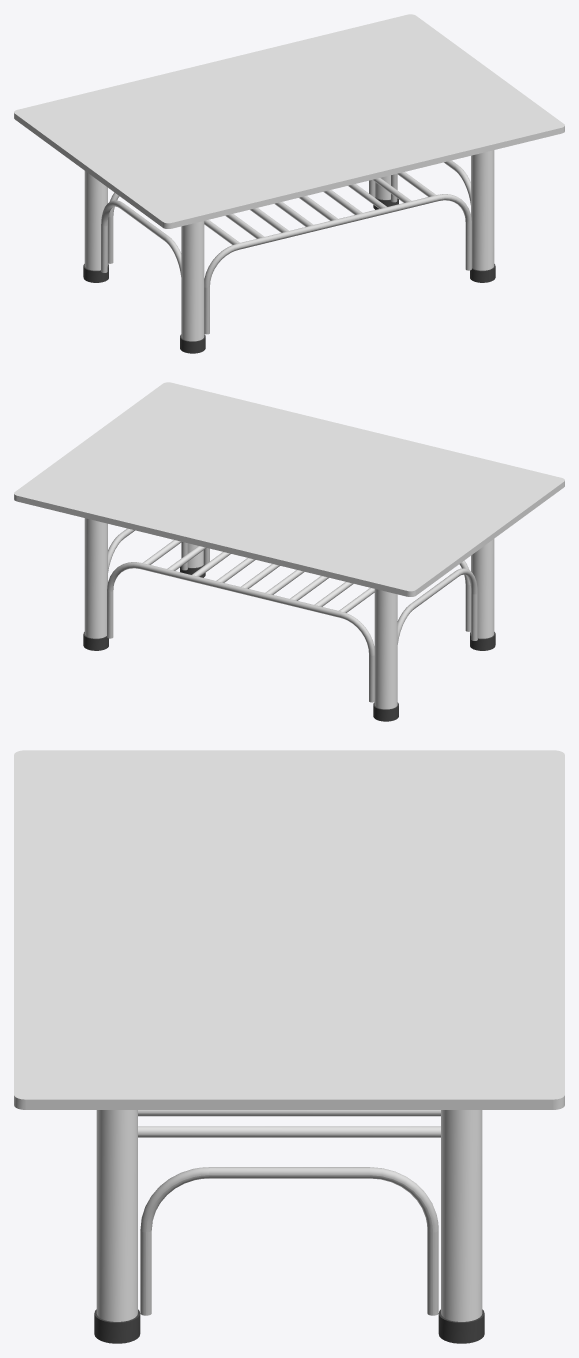
Rendered from CENTER TABLE.glb.
3 renders of one model, top to bottom at view 1: azimuth 30°, elevation 25°; view 2: azimuth 150°, elevation 25°; view 3: azimuth 270°, elevation 25°, orthographic. The views are drawn at different scales.
Parts seen in each view (by area): view 1: empty_2; view 2: empty_2; view 3: empty_2.
Boxes of the visible parts, x1,y1,x2,y2 form: empty_2: (14, 14, 564, 353); empty_2: (14, 382, 564, 721); empty_2: (14, 750, 564, 1343).
Size of the model in its own units: 0.0914 by 0.0346 by 0.061.
Materials: 1 (1 with a texture image).
